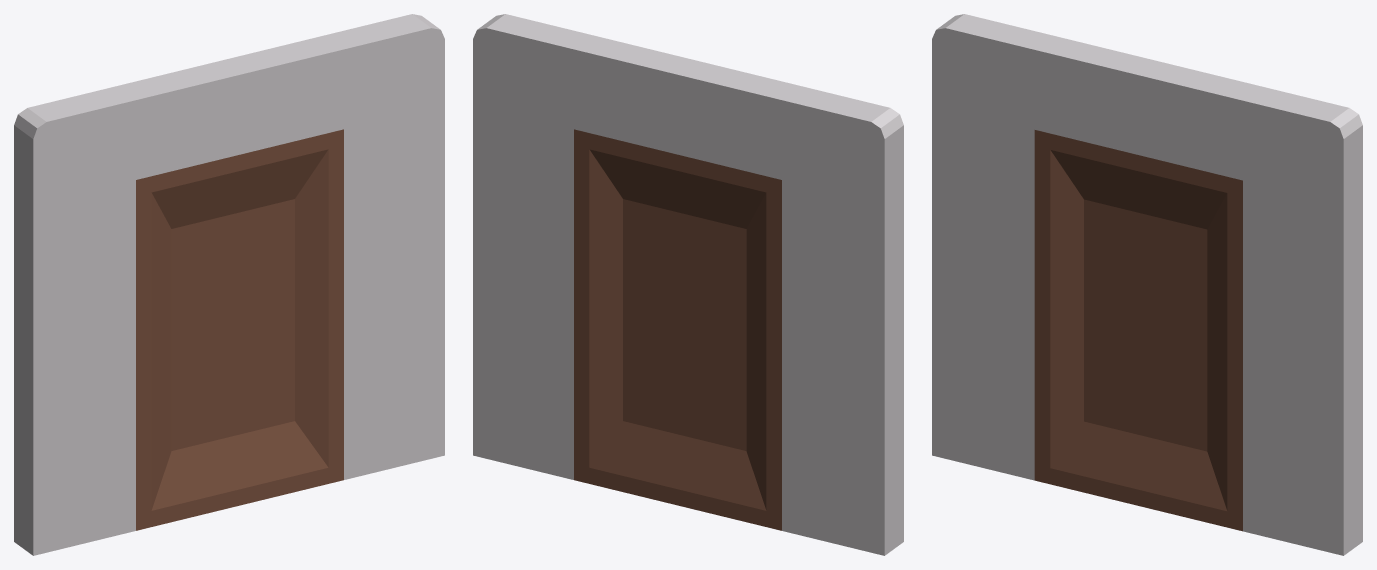
The model's file is door.fbx.
3 renders of one model, left to right at view 1: azimuth 30°, elevation 25°; view 2: azimuth 150°, elevation 25°; view 3: azimuth 330°, elevation 25°, orthographic.
Visible parts, largest first — view 1: Cube, Cube.001; view 2: Cube, Cube.001; view 3: Cube, Cube.001.
Part boxes in pixels (<box>): Cube: <box>14,14,444,555</box>; Cube.001: <box>136,129,343,530</box>; Cube: <box>473,14,903,555</box>; Cube.001: <box>574,129,781,530</box>; Cube: <box>932,14,1362,555</box>; Cube.001: <box>1034,130,1242,531</box>.
Size of the model in its own units: 581 by 581 by 47.08.
